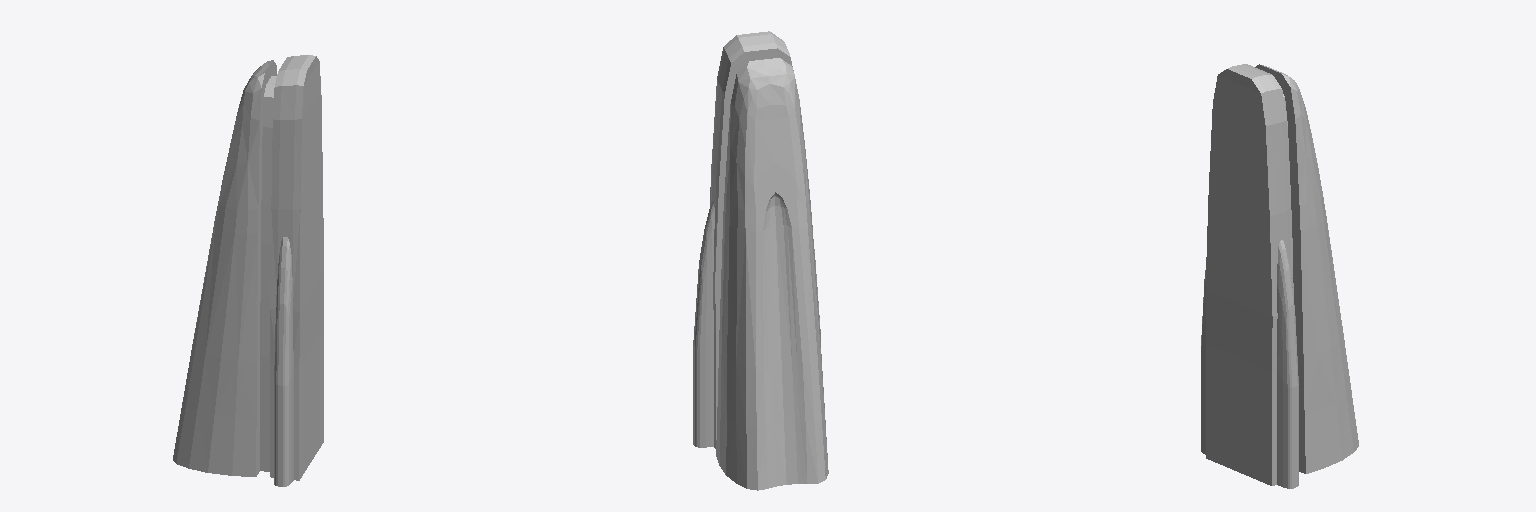
The model's file is Pillar4.obj.
The picture shows the model from 3 angles: view 1: azimuth 30°, elevation 25°; view 2: azimuth 150°, elevation 25°; view 3: azimuth 270°, elevation 25°; orthographic projection.
Visible parts, largest first — view 1: Pillar4; view 2: Pillar4; view 3: Pillar4.
Part boxes in pixels (x1,y1,x2,y2): Pillar4: (173,55,323,486); Pillar4: (693,31,828,490); Pillar4: (1201,64,1358,488).
Bounding box in the file's own units: 9.37 × 26 × 9.37.